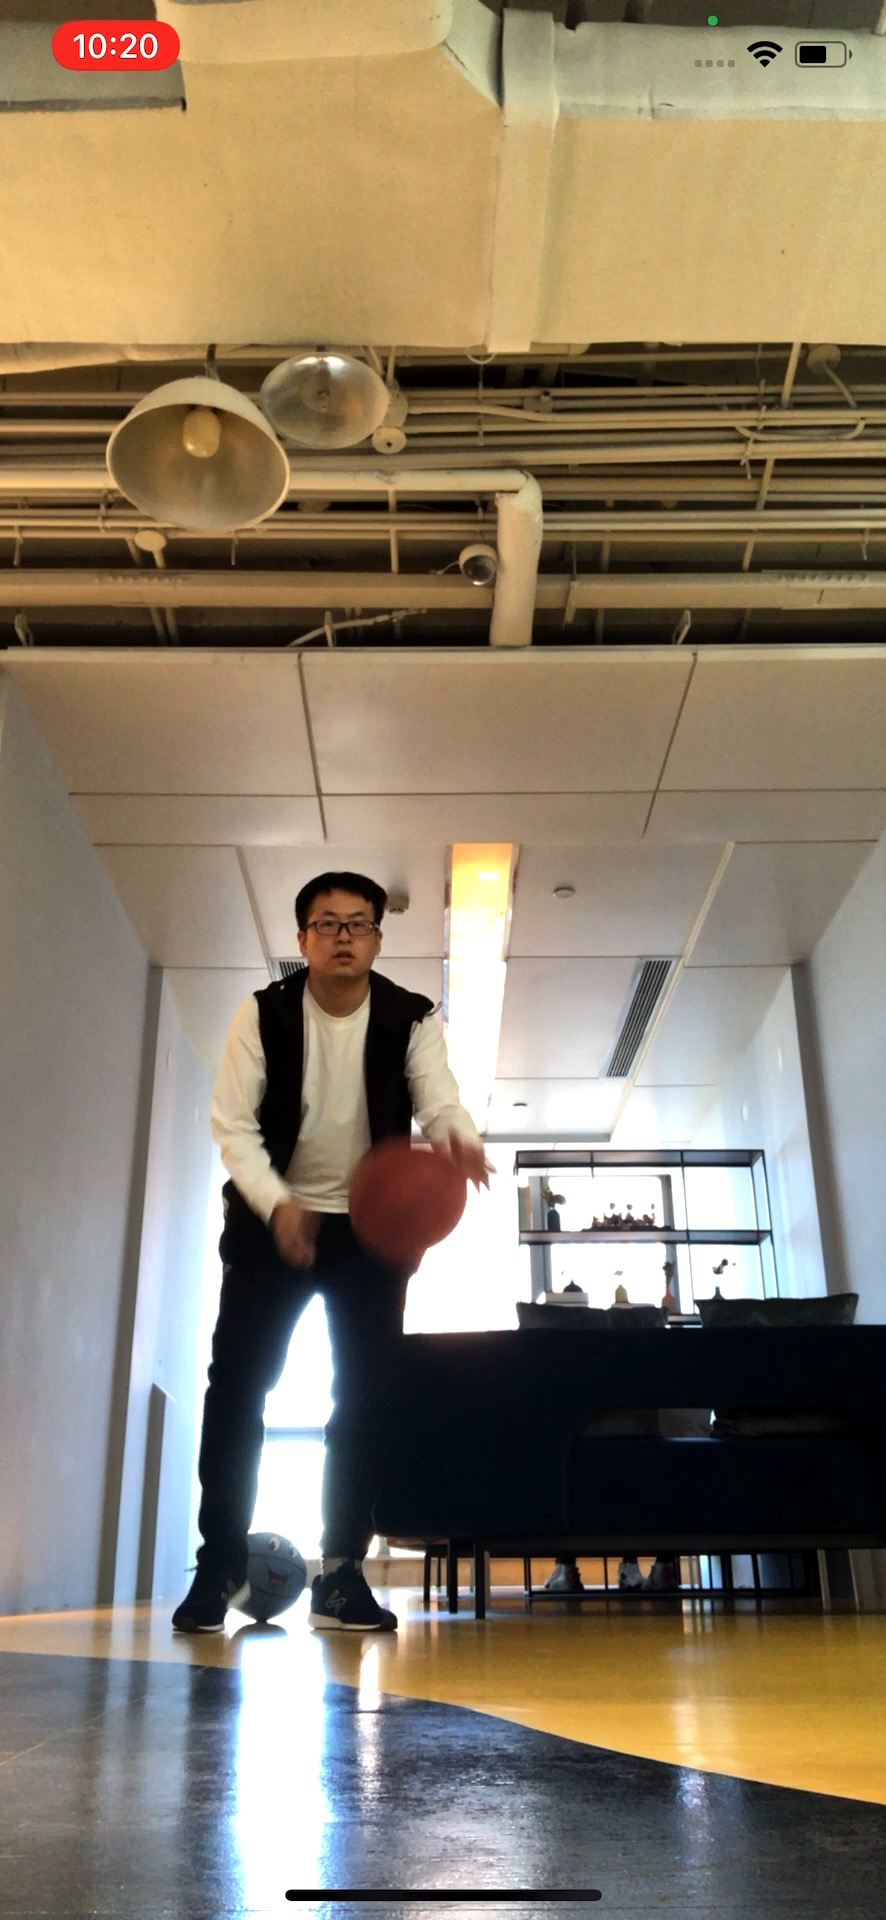ball: (349, 1145, 467, 1247)
